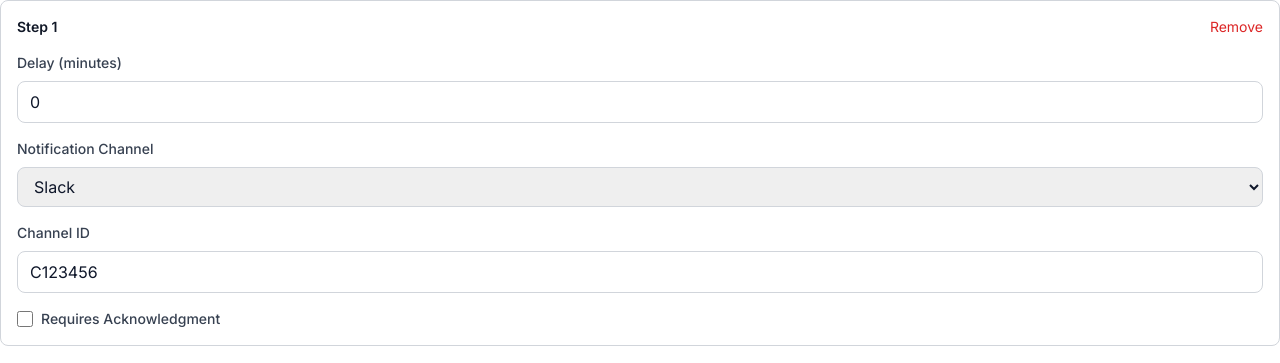
Test: EscalationStepEditor › renders email channel config fields when selected
The width and height of the screenshot is (1280, 363).
Select "Email" in the dropdown showing "Slack" at (640, 187), box [17,167,1263,207]
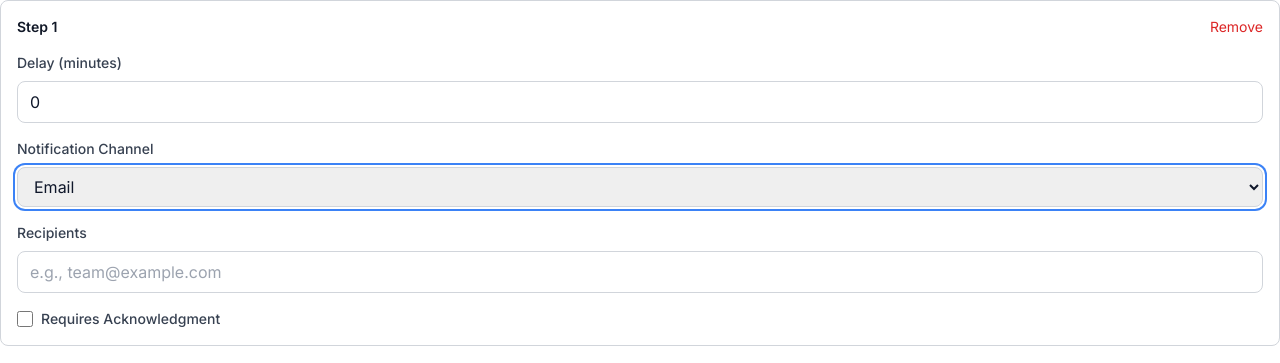
Check: the field with placeholder "e.g., team@example.com" is shown, box [17,251,1263,293]
